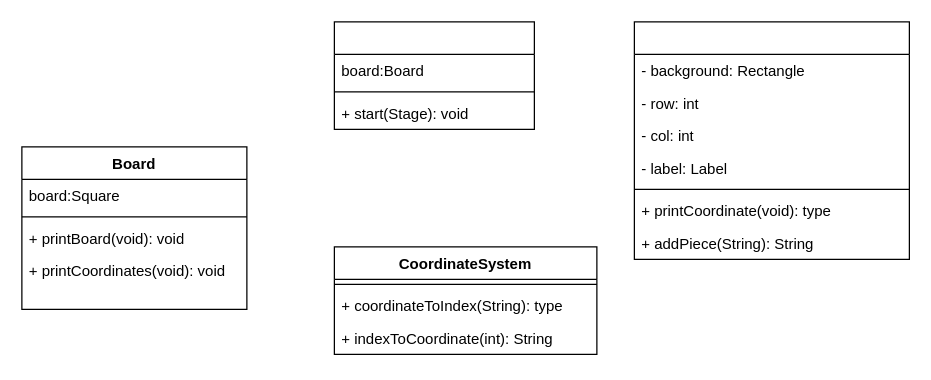
The diagram is 931 pixels wide and 380 high, and some of its shapes have lost their labels. Here are the shapes that lost their labels. From the top down, the box of each, then its label:
(333, 21, 534, 129): ChessTrainer
(633, 21, 909, 259): Square
